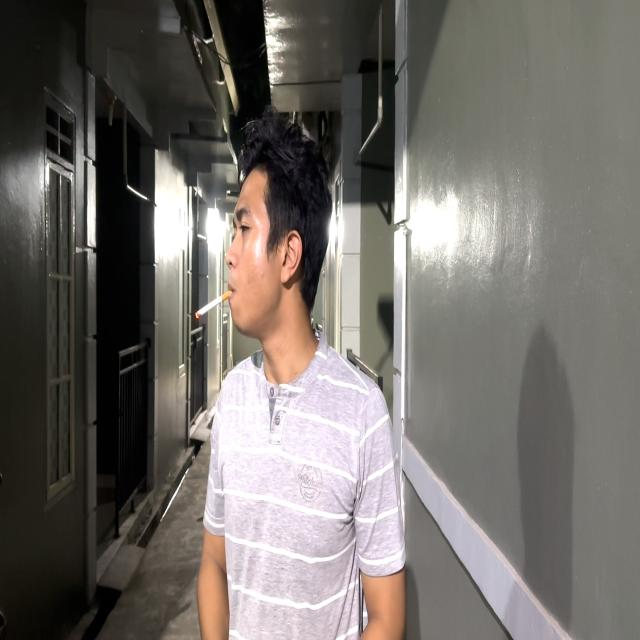cigarette: (193, 283, 235, 324)
smoking: (193, 102, 333, 640)
